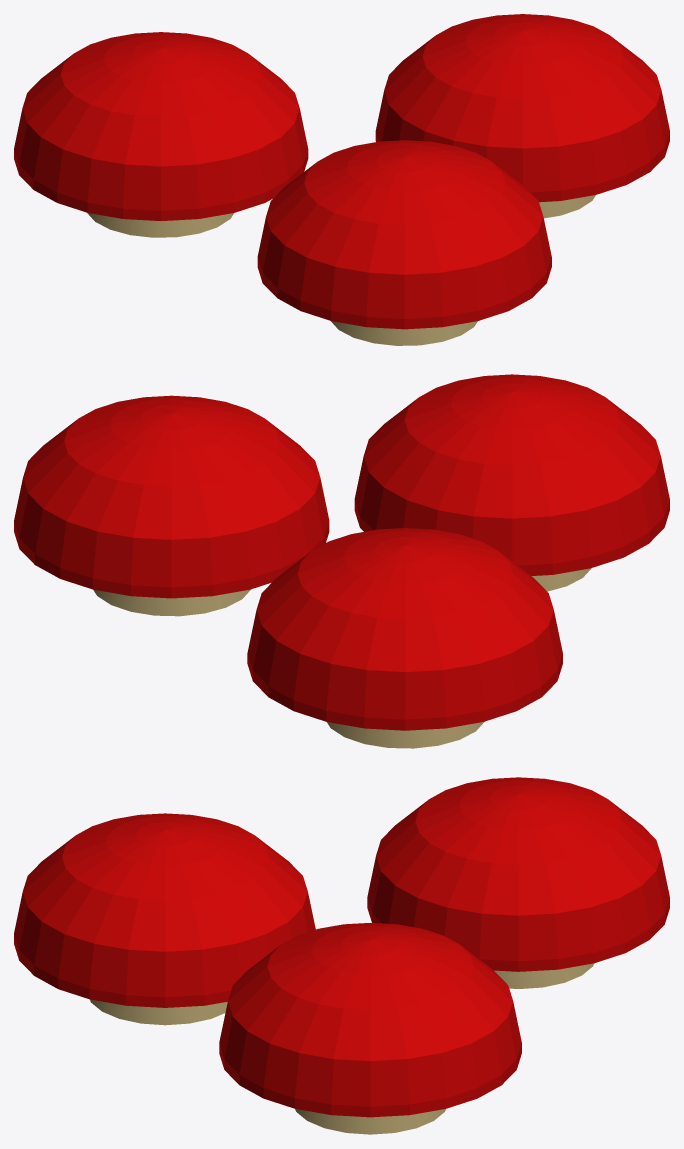
Rendered from mushrooms.fbx.
3 views of the same model, one above another, from view 1: azimuth 30°, elevation 25°; view 2: azimuth 150°, elevation 25°; view 3: azimuth 270°, elevation 25° (orthographic). The views are drawn at different scales.
Parts seen in each view (by area): view 1: mushroom_top3, mushroom_top1, mushroom_top2, mushroom_bottom, mushroom_bottom2, mushroom_bottom1; view 2: mushroom_top1, mushroom_top2, mushroom_top3, mushroom_bottom, mushroom_bottom1, mushroom_bottom2; view 3: mushroom_top2, mushroom_top1, mushroom_top3, mushroom_bottom1, mushroom_bottom2, mushroom_bottom.
Part boxes in pixels (<box>): mushroom_top3: <box>257,140,551,329</box>; mushroom_top1: <box>14,32,308,220</box>; mushroom_top2: <box>375,14,669,202</box>; mushroom_bottom: <box>87,212,233,237</box>; mushroom_bottom2: <box>331,321,477,345</box>; mushroom_bottom1: <box>539,195,595,218</box>; mushroom_top1: <box>247,528,562,730</box>; mushroom_top2: <box>14,395,329,598</box>; mushroom_top3: <box>354,374,669,575</box>; mushroom_bottom: <box>327,721,484,748</box>; mushroom_bottom1: <box>93,589,250,616</box>; mushroom_bottom2: <box>532,568,591,591</box>; mushroom_top2: <box>219,923,521,1117</box>; mushroom_top1: <box>367,777,669,971</box>; mushroom_top3: <box>14,813,315,1007</box>; mushroom_bottom1: <box>295,1109,445,1134</box>; mushroom_bottom2: <box>90,999,227,1025</box>; mushroom_bottom: <box>494,963,593,988</box>.
Bounding box in the file's own units: 2.91 × 0.8041 × 2.96.
